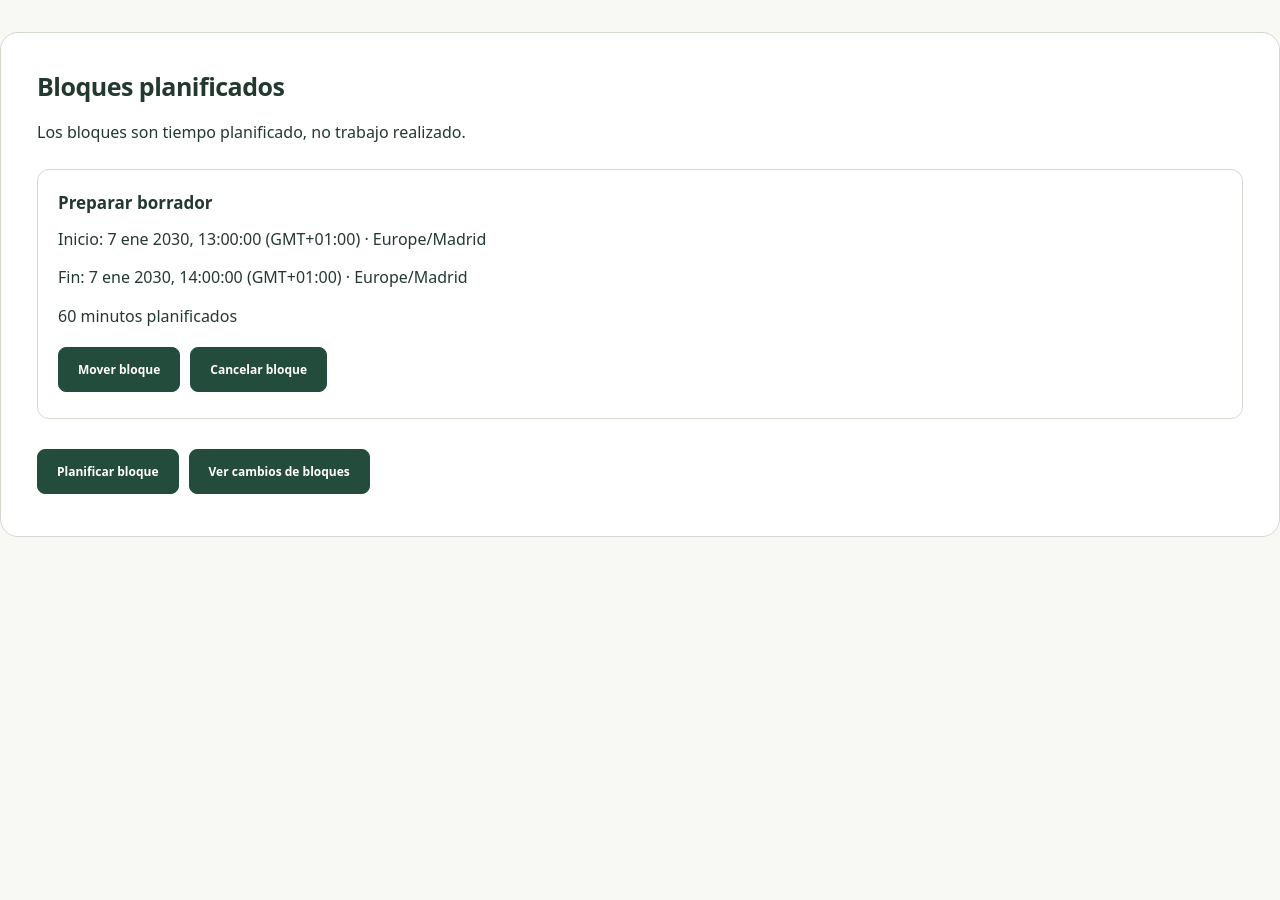
Test: @s7 @s29 reviews original and proposed time before allowing a move
The width and height of the screenshot is (1280, 900).
Click the button "Mover bloque". click: (119, 370)
box: [58, 347, 180, 392]
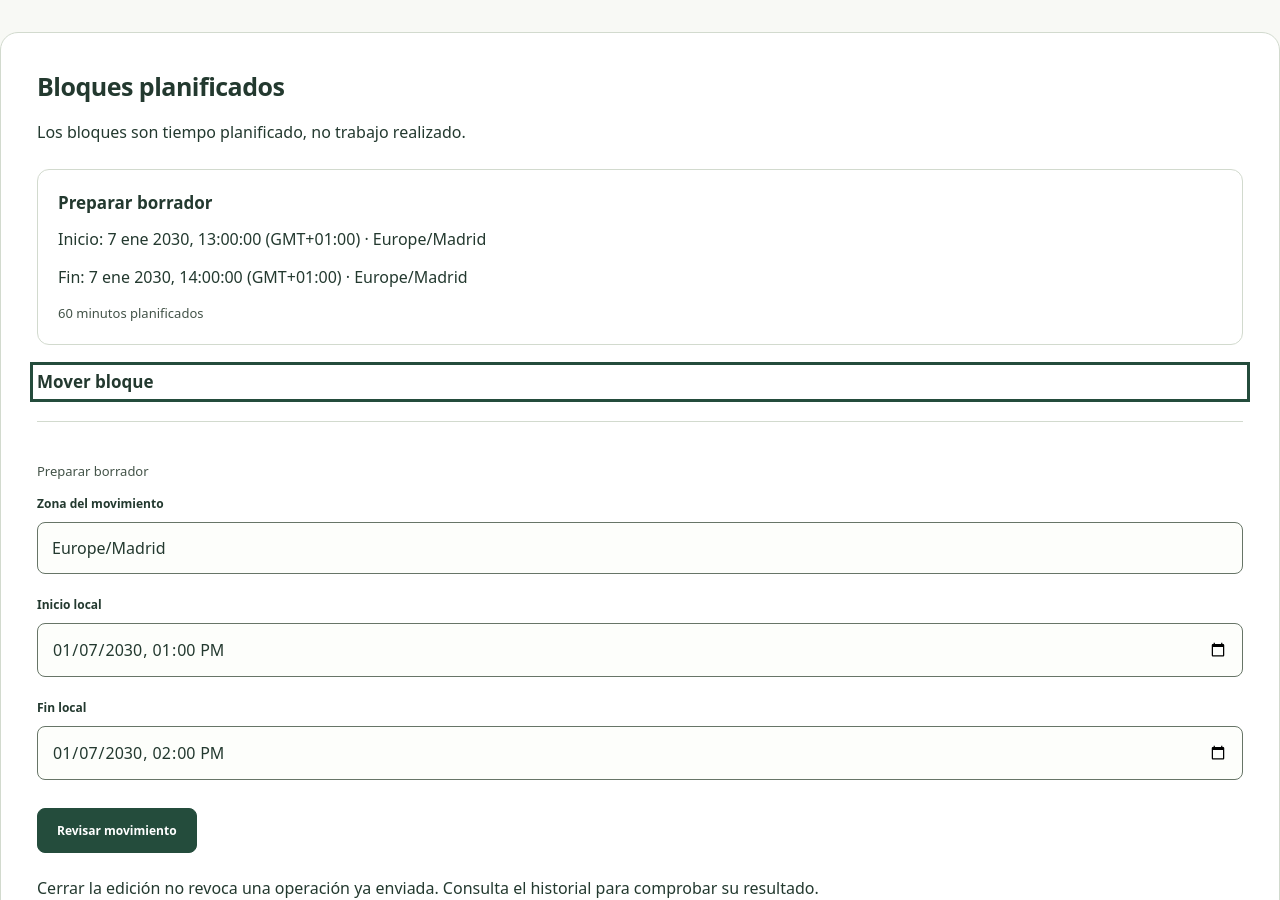
Replace the text in the field labelled "Inicio local" with "2030-01-07T14:00". click: (640, 650)
box: [37, 623, 1243, 677]
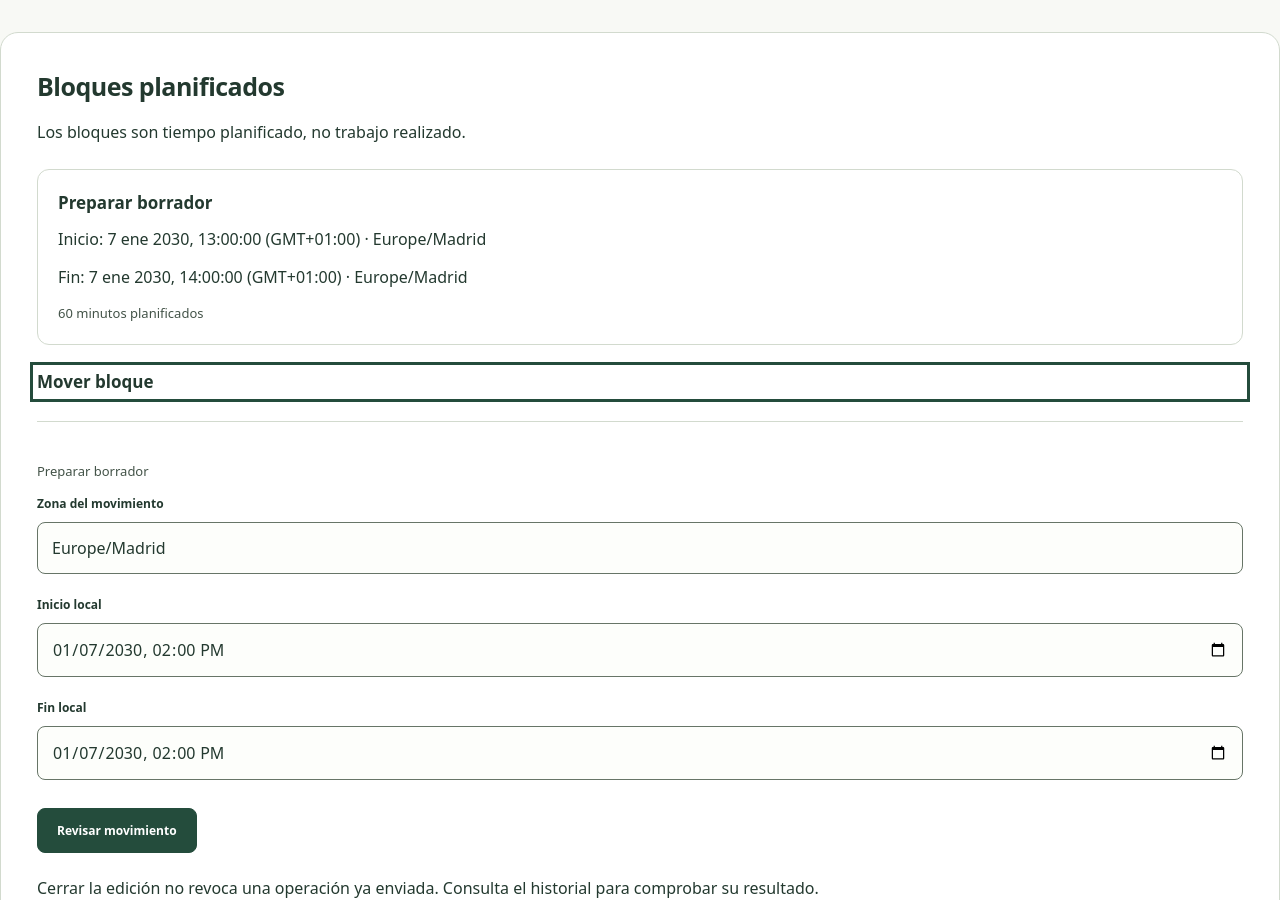
Replace the text in the field labelled "Fin local" with "2030-01-07T15:00". click: (640, 753)
box: [37, 726, 1243, 780]
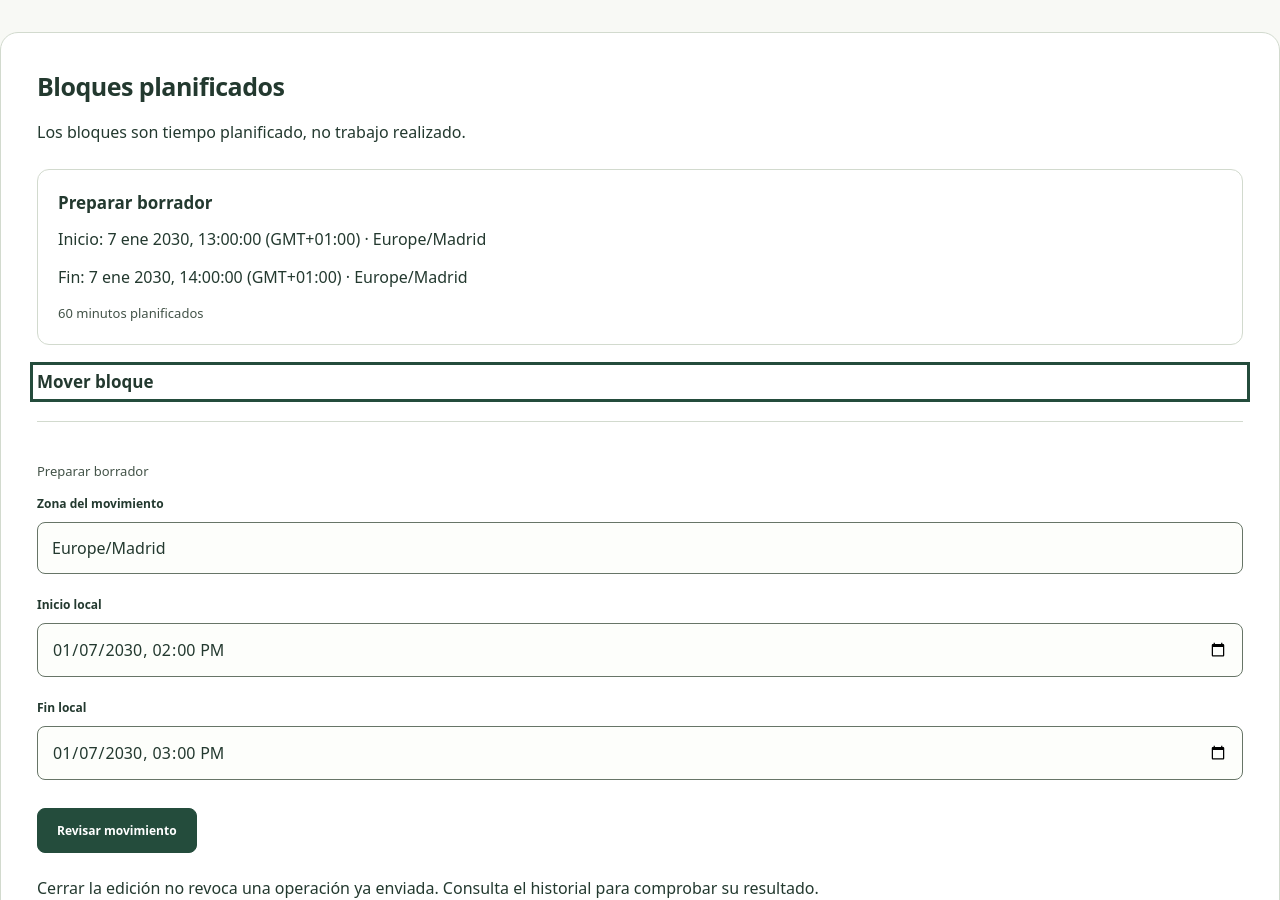
expect the button "Confirmar movimiento" is not shown: met
Click the button "Revisar movimiento". click: (117, 830)
box: [37, 808, 197, 853]
(page scrolled)
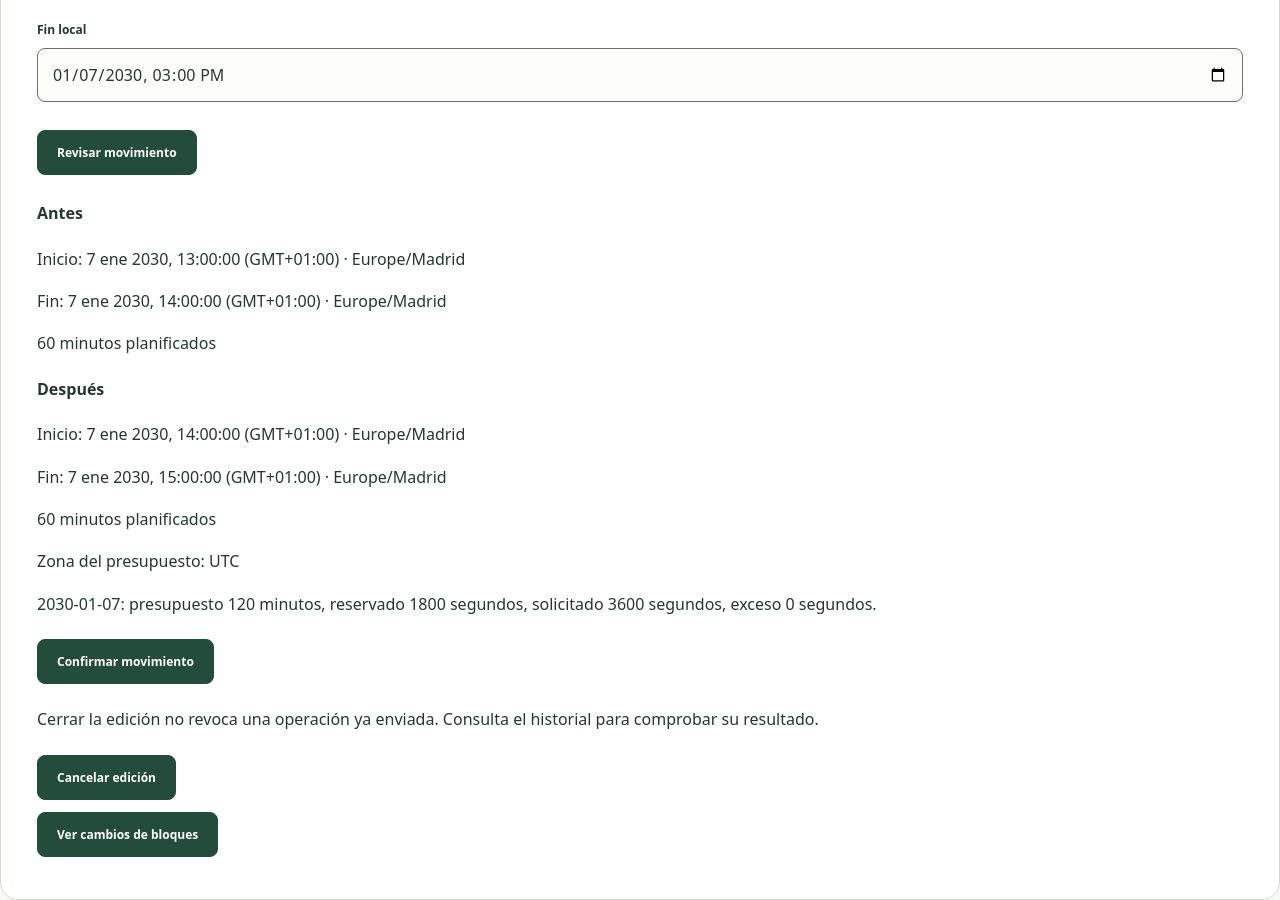
expect the heading "Antes" is shown: met, box [37, 202, 83, 224]
expect the heading "Después" is shown: met, box [37, 378, 104, 400]
expect the button "Confirmar movimiento" is shown: met, box [37, 639, 214, 684]
